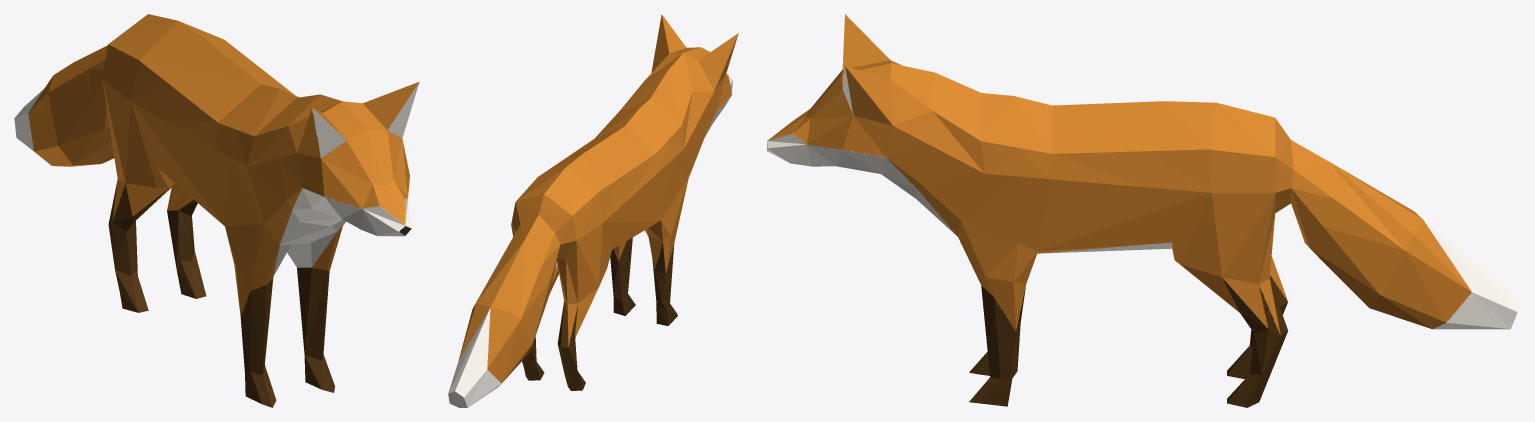
File: LowPolyFoxbyPixelMannen.gltf
3 renders of one model, left to right at view 1: azimuth 30°, elevation 25°; view 2: azimuth 150°, elevation 25°; view 3: azimuth 270°, elevation 25°, orthographic. The views are drawn at different scales.
Parts seen in each view (by area): view 1: fox1; view 2: fox1; view 3: fox1.
Part boxes in pixels (<box>): fox1: <box>14,14,419,407</box>; fox1: <box>448,14,738,407</box>; fox1: <box>767,14,1520,407</box>.
Bounding box in the file's own units: 25.19 × 79.04 × 155.
1 material, 1 textured.
